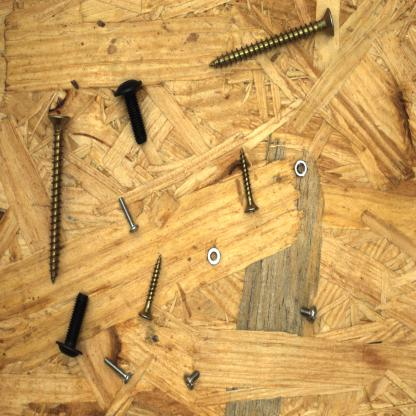screw: (206, 4, 340, 71), (43, 108, 74, 288), (108, 75, 156, 147), (53, 286, 93, 360), (135, 247, 165, 326), (236, 145, 261, 218), (113, 192, 142, 235), (101, 354, 135, 386), (180, 366, 204, 394), (295, 300, 320, 326)
